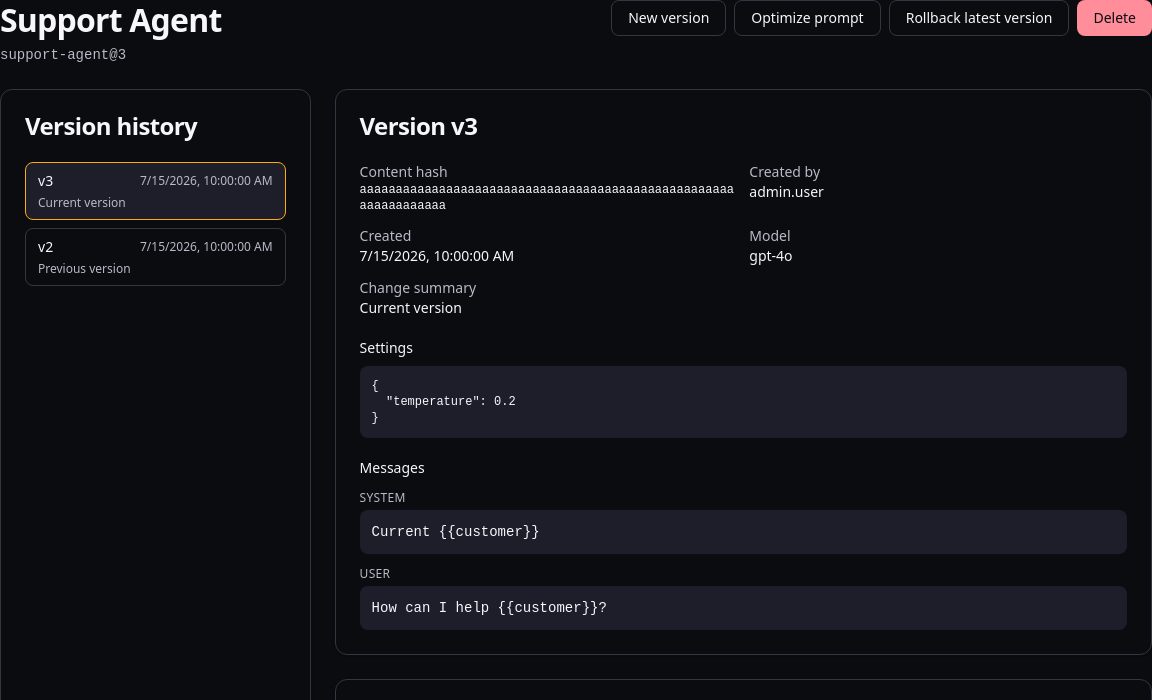
Test: PromptDetailPage › opens one optimization dialog with separate train and held-out validation inputs
Click the button "Optimize prompt". click: (808, 18)
box: [734,0,881,36]
(page scrolled)
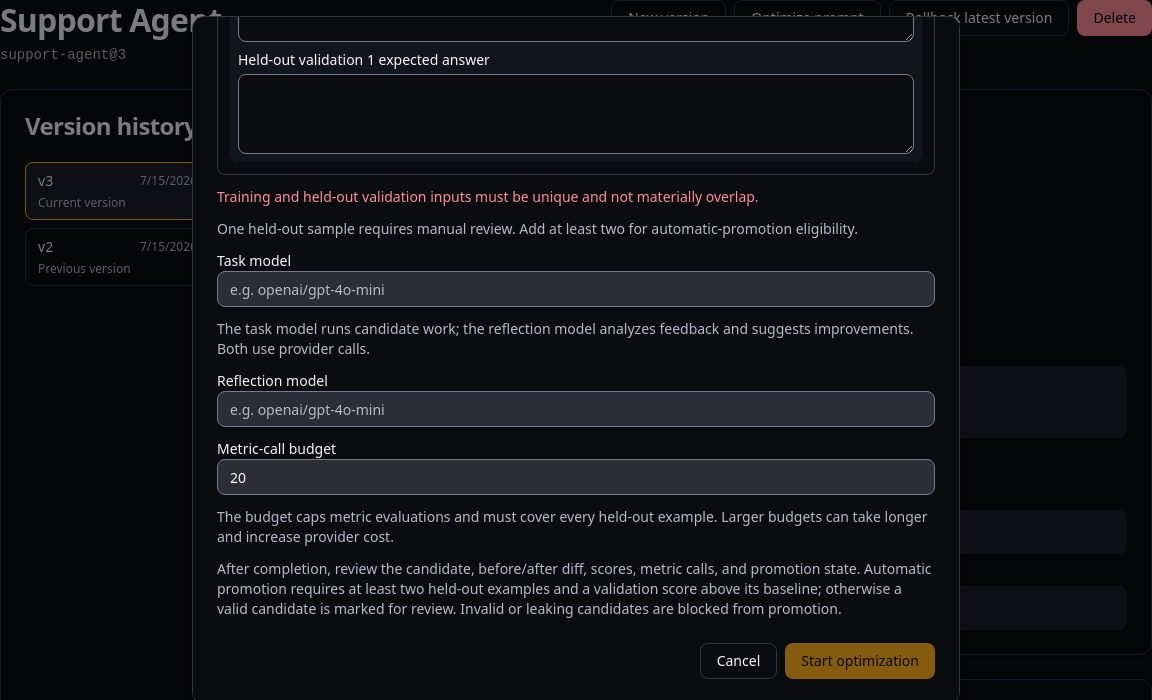
Check: the text "The budget caps metric evaluations and must cover every held-out example. Larger budgets can take longer and increase pr" is shown, box [217,507,928,546]
Check: the text "The task model runs candidate work; the reflection model analyzes feedback and suggests improvements. Both use provider " is shown, box [217,319,914,358]
Check: the text "After completion, review the candidate, before/after diff, scores, metric calls, and promotion state. Automatic promotio" is shown, box [217,559,932,618]
